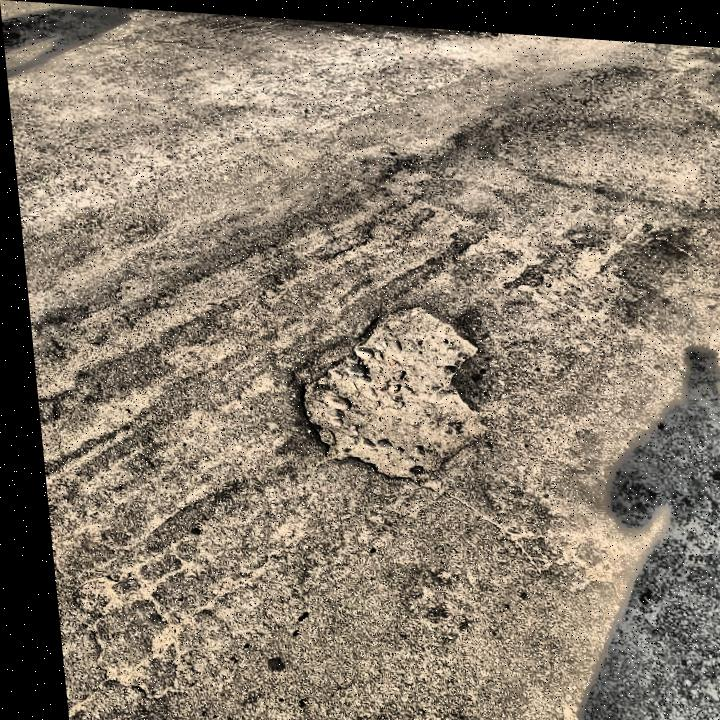pothole: (278, 291, 486, 483)
